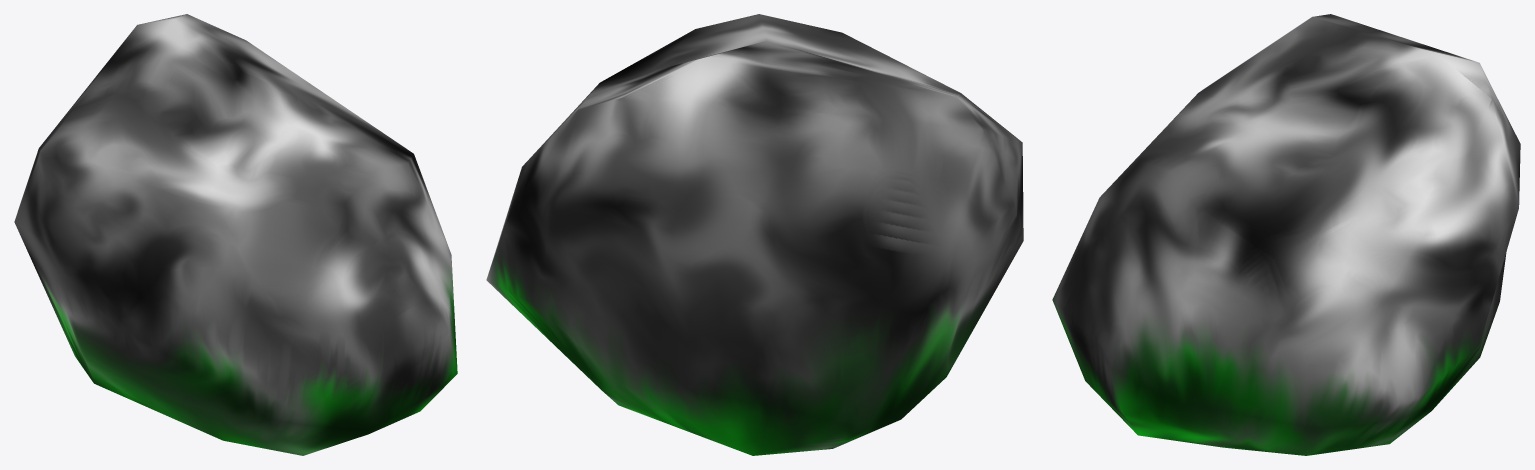
Rendered from StonesSmooth5.fbx.
3 views of the same model, side by side, from view 1: azimuth 30°, elevation 25°; view 2: azimuth 150°, elevation 25°; view 3: azimuth 270°, elevation 25° (orthographic). The views are drawn at different scales.
Parts seen in each view (by area): view 1: Stone5_Smooth; view 2: Stone5_Smooth; view 3: Stone5_Smooth.
Part boxes in pixels (x1,y1,x2,y2): Stone5_Smooth: (14, 14, 457, 455); Stone5_Smooth: (486, 14, 1023, 455); Stone5_Smooth: (1052, 14, 1520, 455).
Bounding box in the file's own units: 183 × 150 × 181.
1 material, 1 textured.
